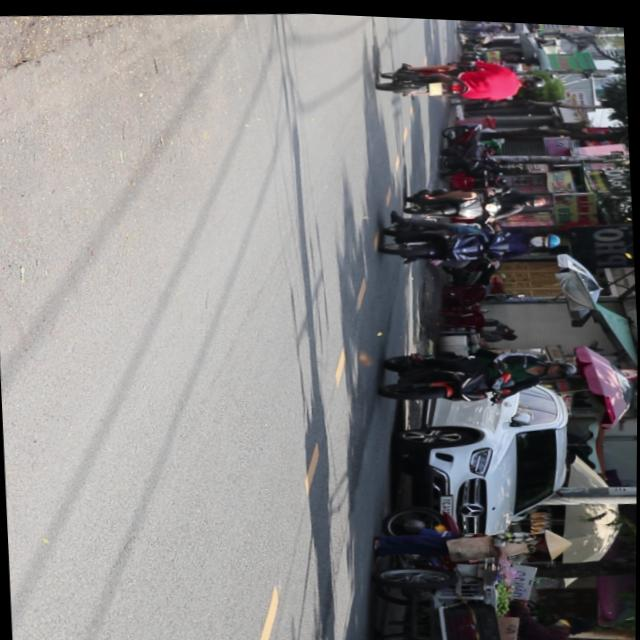helmet: (541, 356, 578, 375), (529, 228, 562, 246)
licenseplate: (377, 336, 581, 409), (377, 205, 564, 272)
